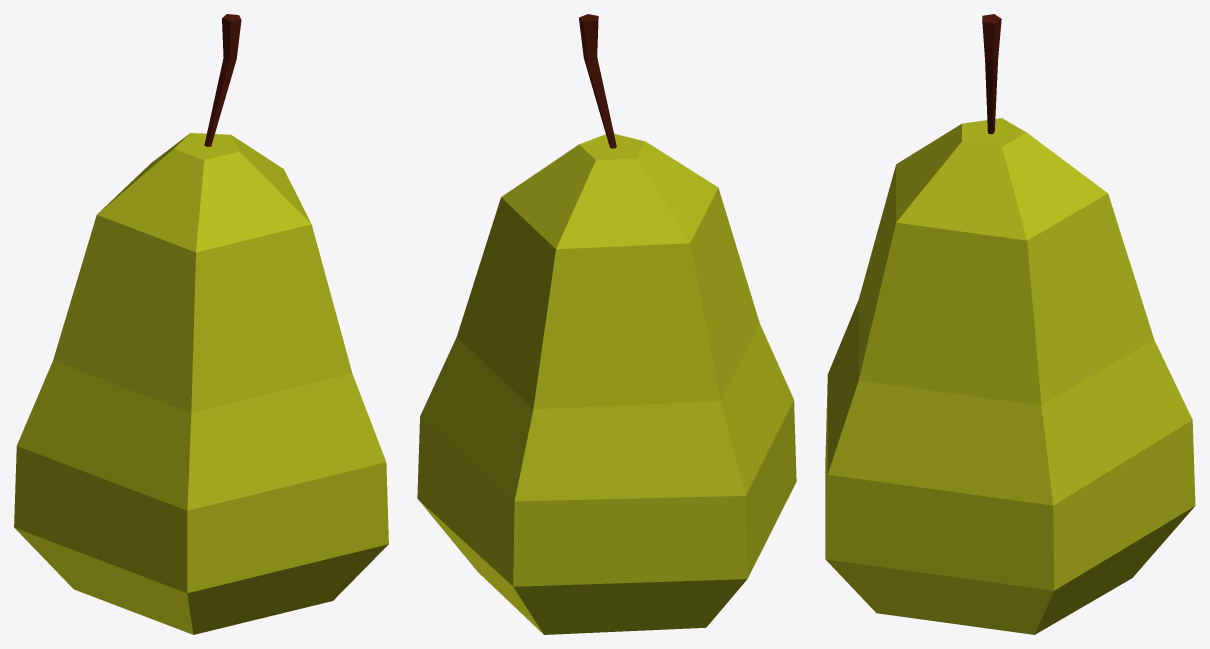
Rendered from pera2.FBX.
3 views of the same model, side by side, from view 1: azimuth 30°, elevation 25°; view 2: azimuth 150°, elevation 25°; view 3: azimuth 270°, elevation 25° (orthographic). The views are drawn at different scales.
Parts seen in each view (by area): view 1: pera2; view 2: pera2; view 3: pera2.
Part boxes in pixels (x1=…): pera2: x1=14, y1=14, x2=388, y2=634; pera2: x1=417, y1=14, x2=796, y2=634; pera2: x1=825, y1=14, x2=1195, y2=634.
Bounding box in the file's own units: 6.13 × 10.24 × 5.83.
